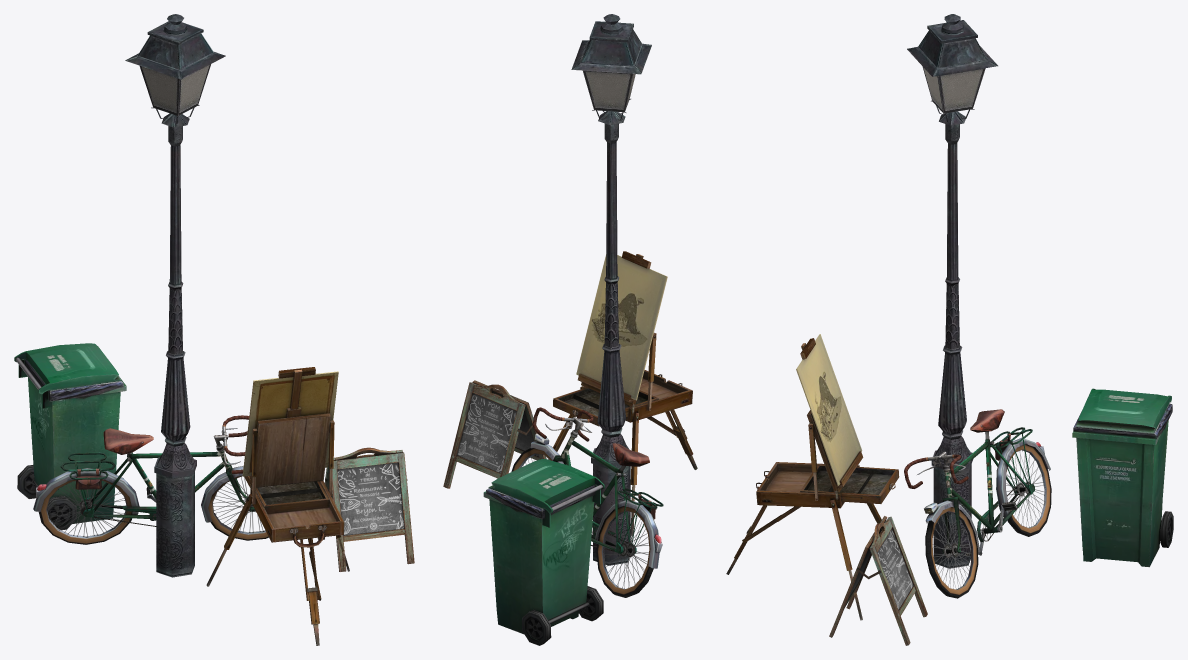
Rendered from montmartre.glb.
The picture shows the model from 3 angles, left to right: view 1: azimuth 30°, elevation 25°; view 2: azimuth 150°, elevation 25°; view 3: azimuth 270°, elevation 25°; orthographic projection. The views are drawn at different scales.
Visible parts, largest first — view 1: SM_StreetLantern_Material #0_0, SM_FrenchEasel_Material #0_0, SM_TrashBin_Material #2_0, SM_PeugeotBicycle_Material #22_0, SM_ShopSign_checker_0; view 2: SM_TrashBin_Material #2_0, SM_StreetLantern_Material #0_0, SM_FrenchEasel_Material #0_0, SM_PeugeotBicycle_Material #22_0, SM_ShopSign_checker_0; view 3: SM_TrashBin_Material #2_0, SM_StreetLantern_Material #0_0, SM_FrenchEasel_Material #0_0, SM_PeugeotBicycle_Material #22_0, SM_ShopSign_checker_0.
Part boxes in pixels (bbox=[...]): SM_StreetLantern_Material #0_0: bbox=[125, 14, 225, 577]; SM_FrenchEasel_Material #0_0: bbox=[206, 367, 349, 645]; SM_TrashBin_Material #2_0: bbox=[14, 343, 126, 530]; SM_PeugeotBicycle_Material #22_0: bbox=[33, 415, 268, 544]; SM_ShopSign_checker_0: bbox=[317, 447, 414, 571]; SM_TrashBin_Material #2_0: bbox=[483, 459, 604, 645]; SM_StreetLantern_Material #0_0: bbox=[571, 14, 651, 565]; SM_FrenchEasel_Material #0_0: bbox=[548, 251, 697, 536]; SM_PeugeotBicycle_Material #22_0: bbox=[511, 407, 663, 597]; SM_ShopSign_checker_0: bbox=[443, 380, 546, 488]; SM_TrashBin_Material #2_0: bbox=[1072, 388, 1173, 567]; SM_StreetLantern_Material #0_0: bbox=[907, 14, 997, 568]; SM_FrenchEasel_Material #0_0: bbox=[726, 334, 899, 620]; SM_PeugeotBicycle_Material #22_0: bbox=[904, 409, 1051, 598]; SM_ShopSign_checker_0: bbox=[829, 516, 927, 645].
Size of the model in its own units: 2.25 by 4.11 by 3.05.
Materials: 5 (5 with a texture image).
